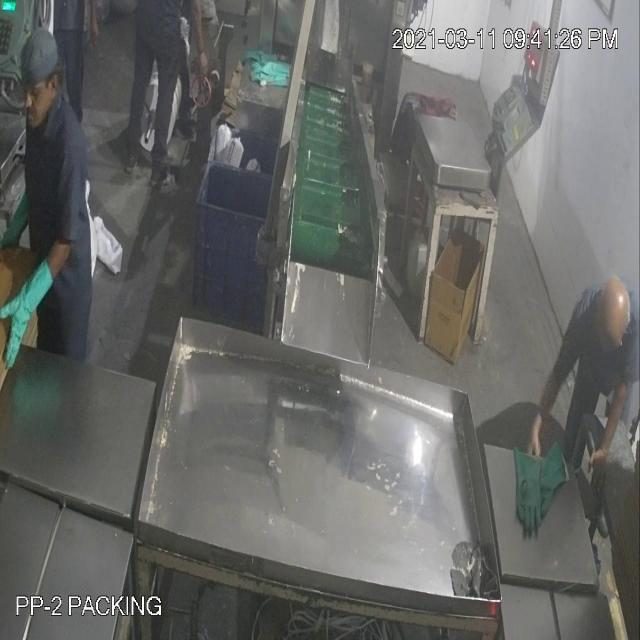Gloves: (29, 46, 610, 433)
